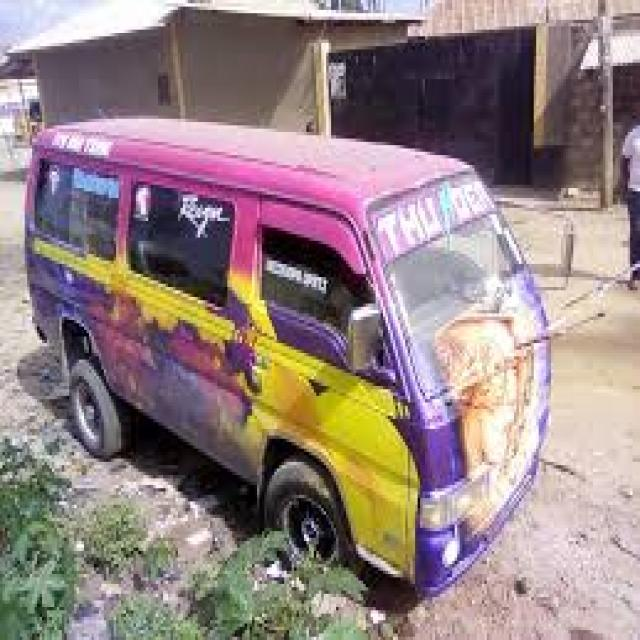matatu: (9, 64, 605, 618)
